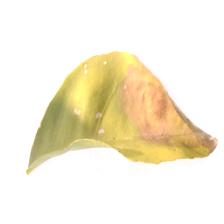black spot: (132, 62, 212, 165)
